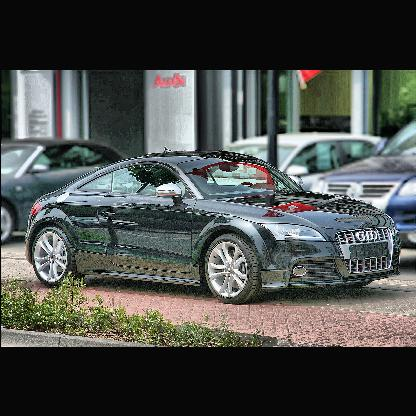Audi TTS Coupe 2012: (19, 145, 405, 305)
